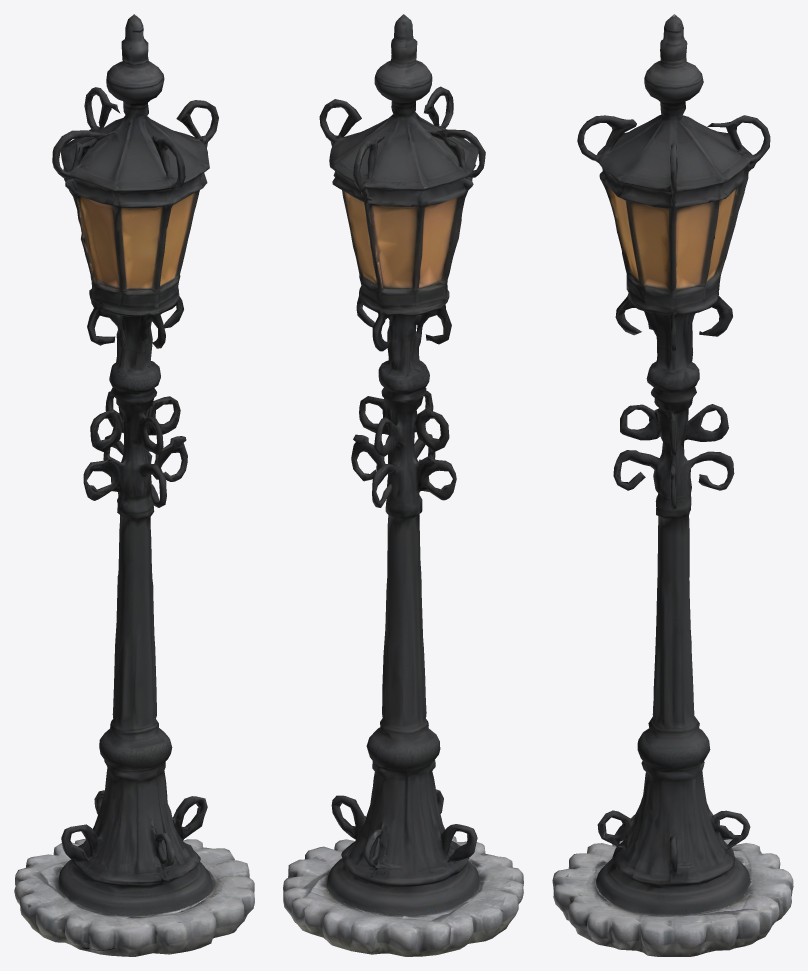
File: lamp.glb
The picture shows the model from 3 angles, left to right: view 1: azimuth 30°, elevation 25°; view 2: azimuth 150°, elevation 25°; view 3: azimuth 270°, elevation 25°; orthographic projection.
Bounding box in the file's own units: 0.4906 × 2 × 0.4869.
1 material, 1 textured.
